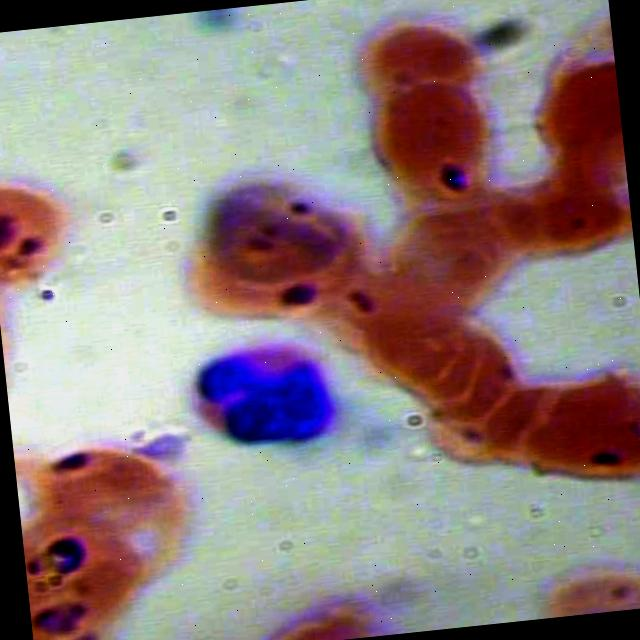RBC: (192, 154, 362, 290), (366, 85, 506, 213), (378, 204, 520, 330), (31, 418, 173, 544), (345, 0, 478, 121), (517, 369, 640, 494), (0, 168, 92, 290)
WBC: (180, 336, 341, 461)
